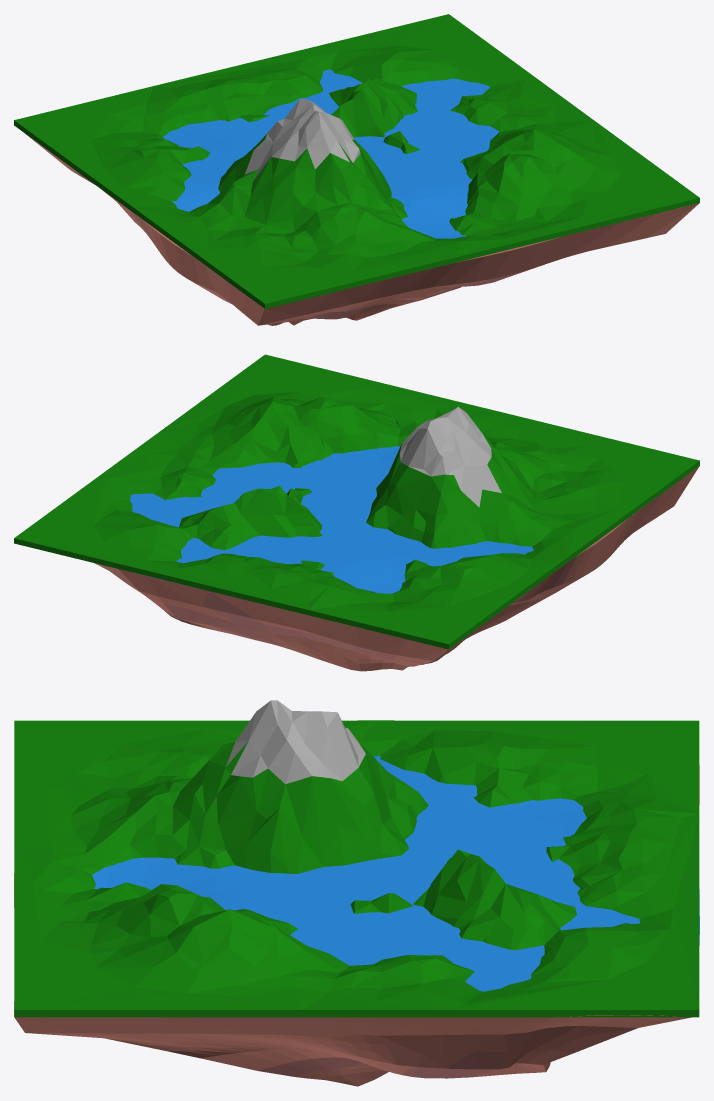
The model's file is mountaint.fbx.
3 renders of one model, top to bottom at view 1: azimuth 30°, elevation 25°; view 2: azimuth 150°, elevation 25°; view 3: azimuth 270°, elevation 25°, orthographic. The views are drawn at different scales.
Visible parts, largest first — view 1: Landscape_plane; view 2: Landscape_plane; view 3: Landscape_plane.
Part boxes in pixels (<box>): Landscape_plane: <box>14,14,699,325</box>; Landscape_plane: <box>14,354,699,671</box>; Landscape_plane: <box>14,700,699,1086</box>.
Size of the model in its own units: 19221 by 10476 by 19182.
